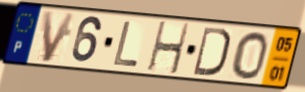6: (70, 14, 103, 67)
D: (191, 25, 232, 78)
H: (145, 20, 191, 76)
L: (111, 20, 141, 69)
O: (230, 30, 270, 81)
V: (41, 9, 78, 64)
